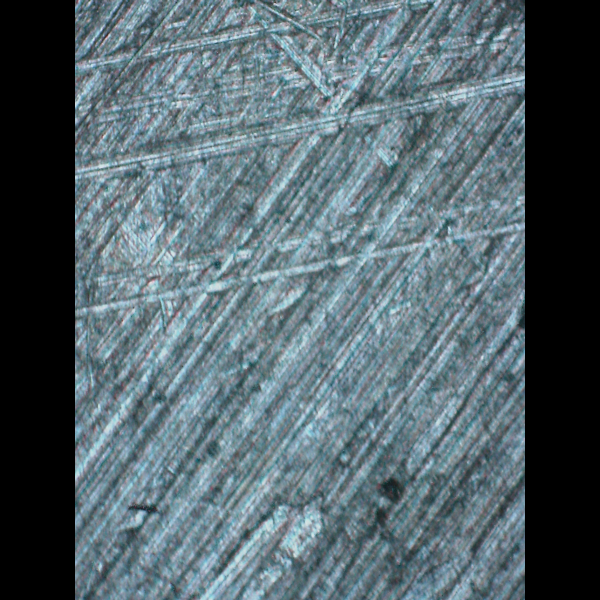d: (77, 0, 525, 331)
